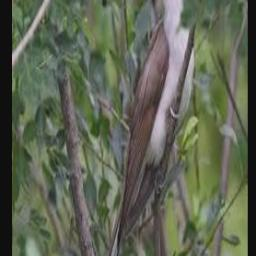Cuckoo: (106, 0, 193, 256)
